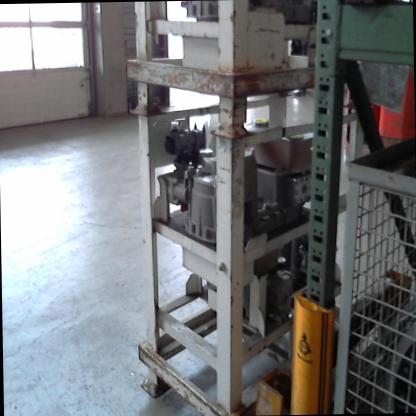pallet_truck: (334, 42, 415, 174)
stillage: (334, 121, 416, 412)
